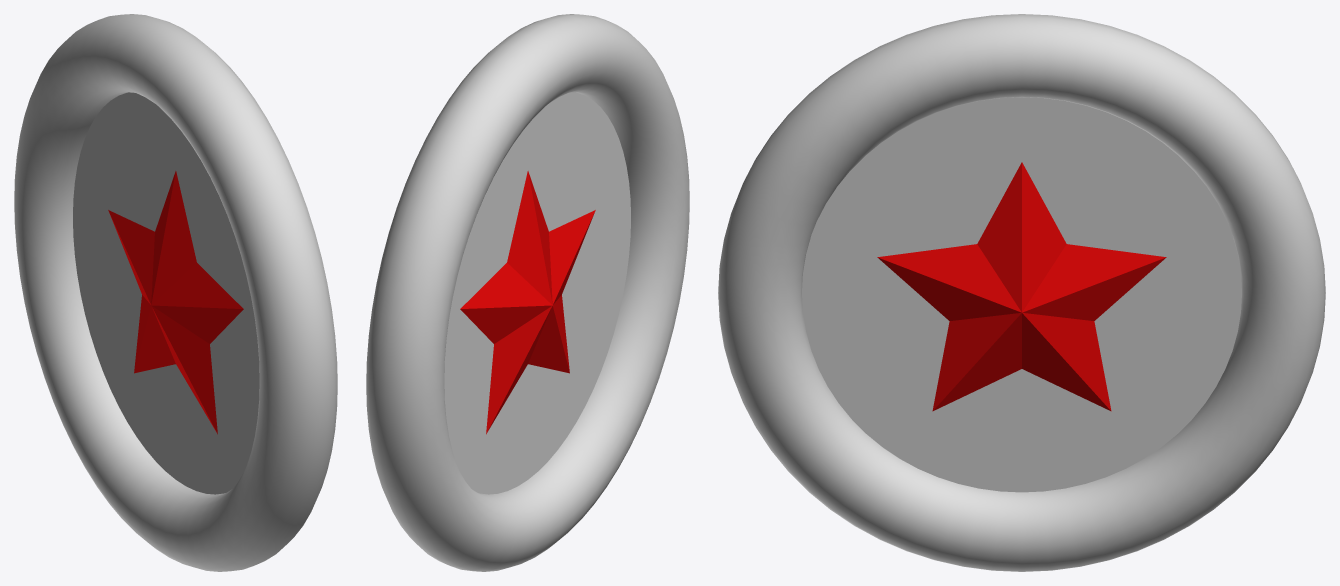
File: GoalRing.fbx
3 views of the same model, side by side, from view 1: azimuth 30°, elevation 25°; view 2: azimuth 150°, elevation 25°; view 3: azimuth 270°, elevation 25° (orthographic). The views are drawn at different scales.
Visible parts, largest first — view 1: Ring, RainbowPlane, Star; view 2: Ring, RainbowPlane, Star; view 3: Ring, RainbowPlane, Star.
Part boxes in pixels (left/top/right/bottom): Ring: left=14, top=14, right=337, bottom=571; RainbowPlane: left=73, top=92, right=259, bottom=494; Star: left=108, top=171, right=243, bottom=434; Ring: left=366, top=14, right=689, bottom=571; RainbowPlane: left=444, top=92, right=630, bottom=494; Star: left=460, top=171, right=595, bottom=434; Ring: left=718, top=14, right=1325, bottom=571; RainbowPlane: left=802, top=97, right=1241, bottom=492; Star: left=877, top=162, right=1166, bottom=411.
Bounding box in the file's own units: 0.55 × 3.99 × 3.99.
